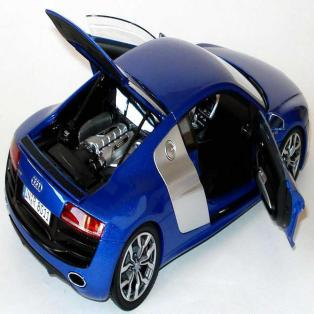Auto: (4, 7, 310, 312)
